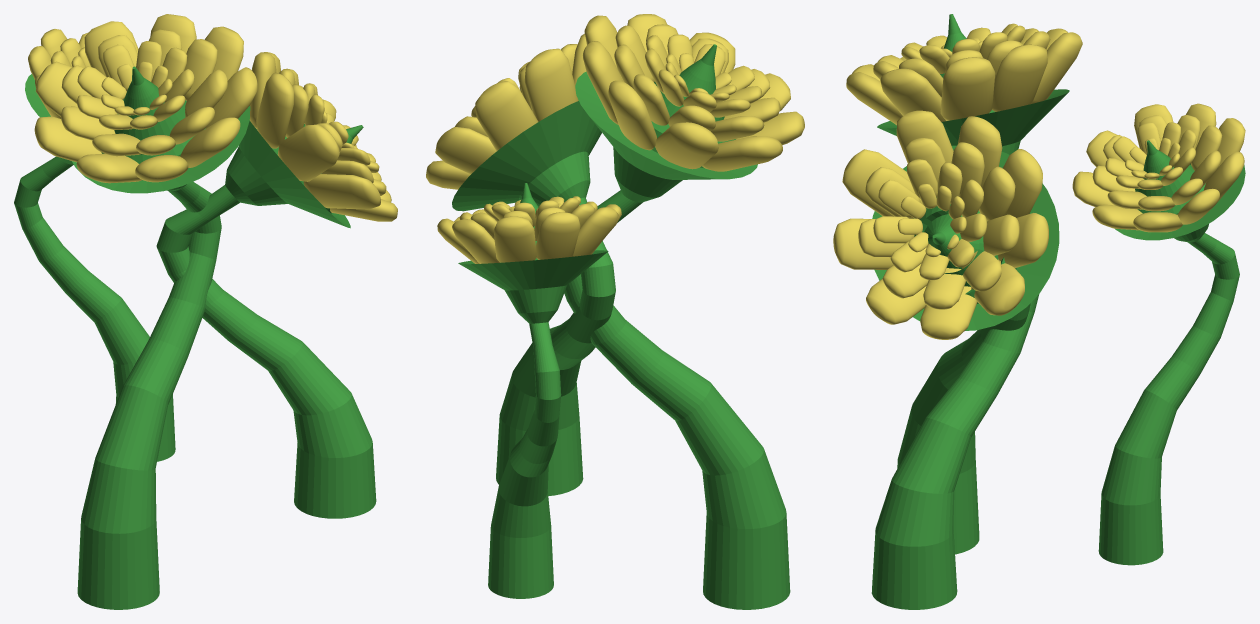
Rendered from flower.fbx.
The picture shows the model from 3 angles, left to right: view 1: azimuth 30°, elevation 25°; view 2: azimuth 150°, elevation 25°; view 3: azimuth 270°, elevation 25°; orthographic projection. The views are drawn at different scales.
Parts seen in each view (by area): view 1: Cylinder.001, Cylinder.006, Cylinder.003, Cylinder.004, Cylinder.005, Cylinder.007; view 2: Cylinder.001, Cylinder.006, Cylinder.003, Cylinder.005, Cylinder.004, Cylinder.007; view 3: Cylinder.004, Cylinder.003, Cylinder.005, Cylinder.006, Cylinder.007, Cylinder.001.
Boxes of the visible parts, x1,y1,x2,y2 form: Cylinder.001: (72,66,250,609); Cylinder.006: (34,14,257,183); Cylinder.003: (156,120,376,518); Cylinder.004: (249,52,397,221); Cylinder.005: (14,74,175,461); Cylinder.007: (28,29,90,118); Cylinder.001: (564,44,790,609); Cylinder.006: (583,14,804,171); Cylinder.003: (452,101,615,495); Cylinder.005: (458,183,608,598); Cylinder.004: (426,33,586,189); Cylinder.007: (437,196,621,263); Cylinder.004: (833,110,1048,339); Cylinder.003: (871,145,1059,609); Cylinder.005: (1098,140,1245,565); Cylinder.006: (846,23,1082,125); Cylinder.007: (1072,103,1245,232); Cylinder.001: (877,14,1069,554).
Bounding box in the file's own units: 364 × 554 × 381.
